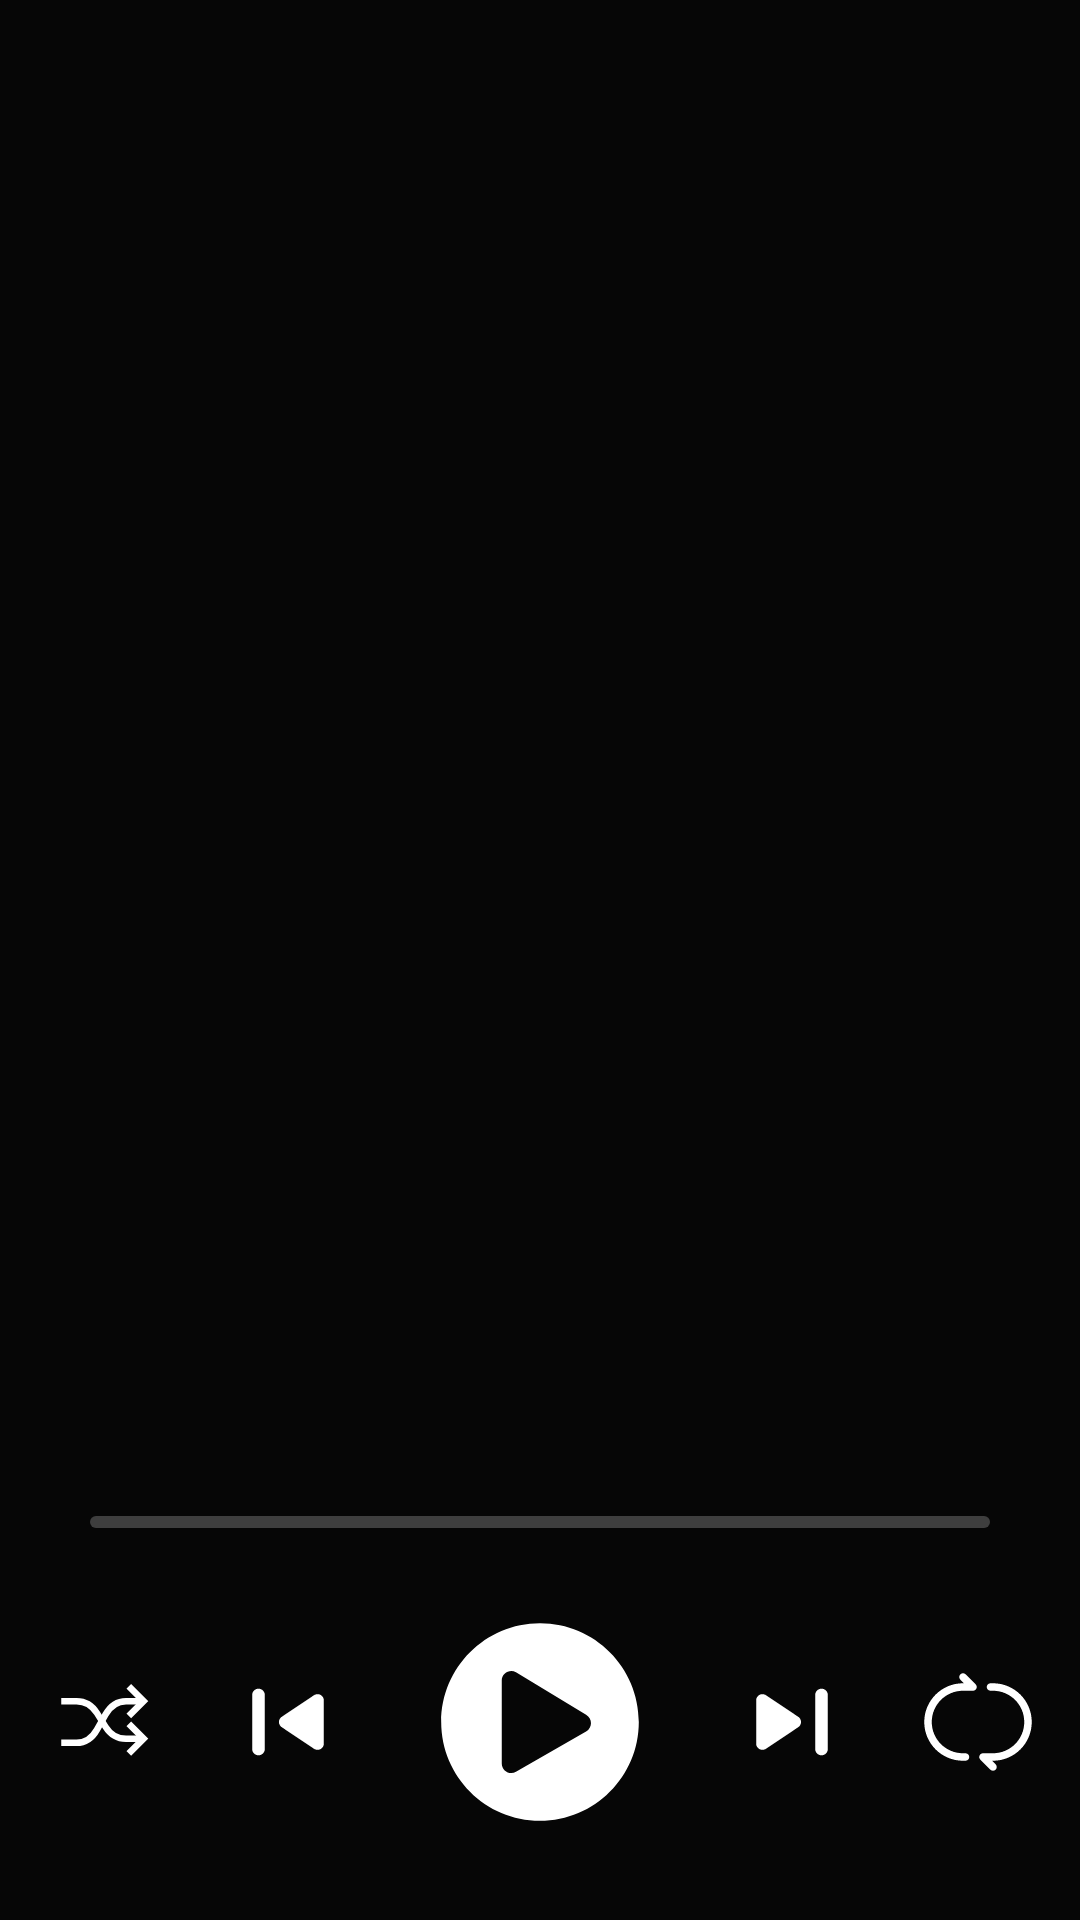

Where to tap for icons on this 1080w x 1920h app screen, as (x,y):
Next song: (792,1722)
Play/Pause: (540,1722)
Previous song: (288,1722)
Repeat songs: (978,1722)
Shuffle songs: (104,1720)
